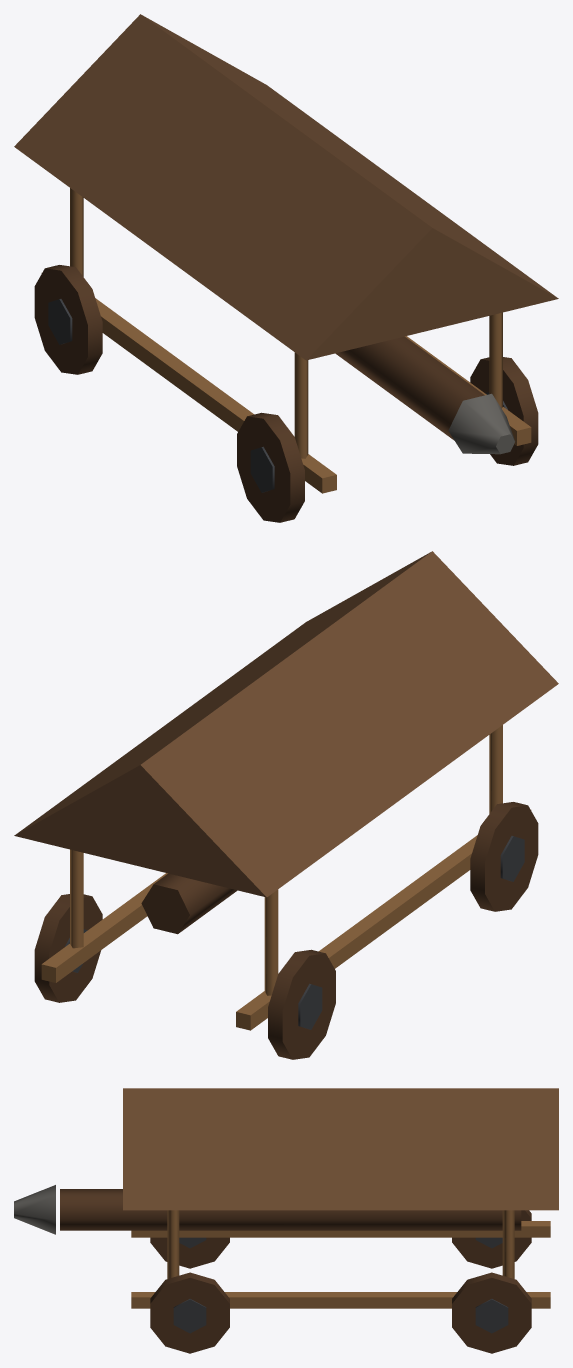
Rendered from unit_mil_ram_a01.glb.
3 renders of one model, top to bottom at view 1: azimuth 30°, elevation 25°; view 2: azimuth 150°, elevation 25°; view 3: azimuth 270°, elevation 25°, orthographic. The views are drawn at different scales.
Visible parts, largest first — view 1: body, ram, wheel_0, wheel_2, wheel_3; view 2: body, wheel_2, wheel_0, wheel_1, ram; view 3: body, ram, wheel_1, wheel_3, wheel_0, wheel_2.
Part boxes in pixels (x1,y1,x2,y2): body: [14, 14, 558, 493]; ram: [335, 336, 514, 454]; wheel_0: [34, 265, 102, 374]; wheel_2: [237, 412, 304, 522]; wheel_3: [470, 357, 538, 465]; body: [14, 551, 558, 1030]; wheel_2: [470, 802, 538, 911]; wheel_0: [268, 949, 335, 1059]; wheel_1: [34, 894, 102, 1002]; ram: [141, 873, 237, 934]; body: [123, 1088, 558, 1308]; ram: [14, 1185, 521, 1234]; wheel_1: [452, 1272, 531, 1353]; wheel_3: [150, 1272, 229, 1353]; wheel_0: [452, 1210, 531, 1268]; wheel_2: [150, 1237, 229, 1268].
Size of what is drawn, in the model's own units: 2.6 by 2.9 by 6.5.
